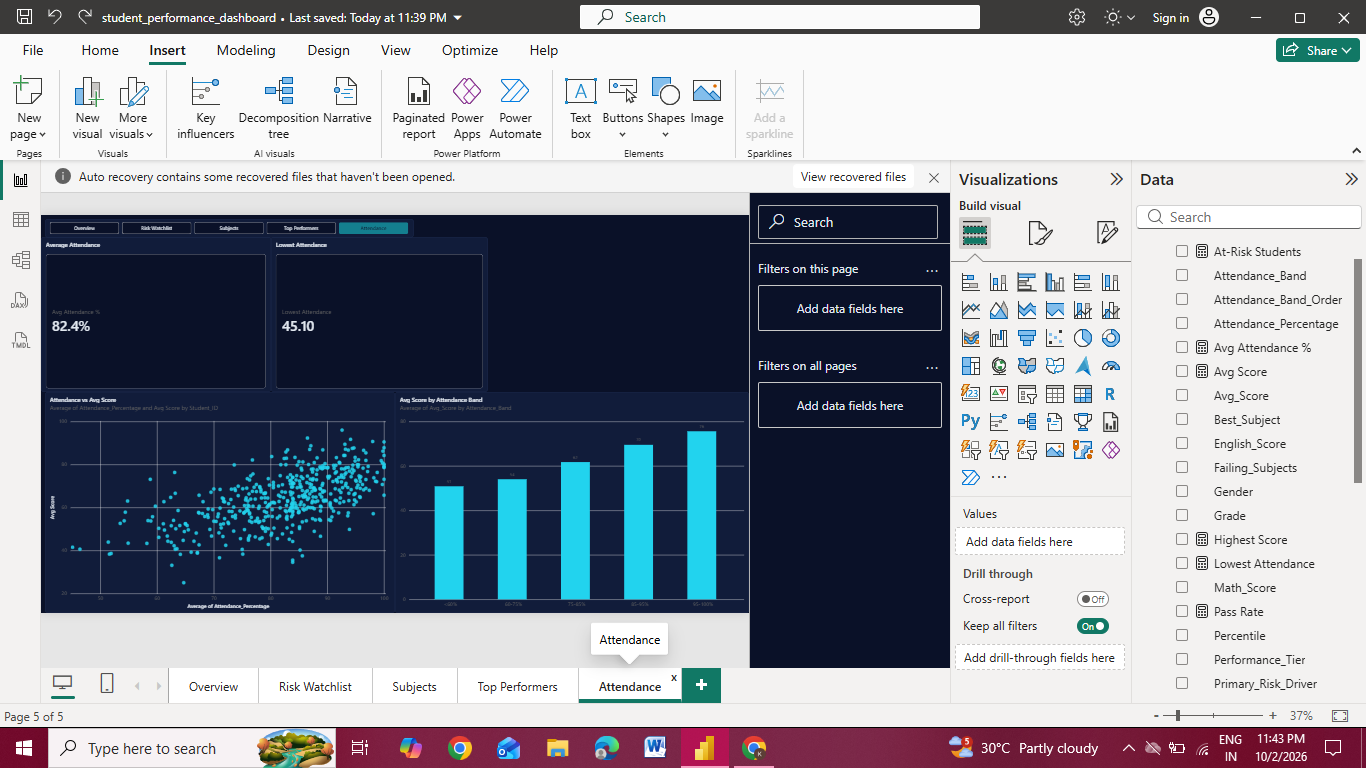

The dashboard page shown, as its layout file describes it:
{"tool":"powerbi","page":{"name":"Attendance","canvas":[1920,1080],"ordinal":4},"visuals":[{"type":"cardVisual","title":"Average Attendance","fields":{"Data":["students.Avg Attendance %"]},"box":[0,59.7,623.7,420.3],"z":0},{"type":"cardVisual","title":"Lowest Attendance","fields":{"Data":["students.Lowest Attendance"]},"box":[623.7,59.7,588.5,420.3],"z":1000},{"type":"scatterChart","title":"Attendance vs Avg Score","fields":{"Category":["students.Student_ID"],"X":["students.Attendance_Percentage"],"Y":["students.Avg Score"]},"box":[10.8,480,949.2,599.3],"z":2000},{"type":"clusteredColumnChart","title":"Avg Score by Attendance Band","fields":{"Category":["students.Attendance_Band"],"Y":["Avg(students.Avg_Score)"]},"box":[960,480,960,599.3],"z":2001},{"type":"pageNavigator","box":[10,10,1000,50],"z":2002}]}

Visuals, with their boxes on the page's 1920x1080 design canvas (x1, y1, x2, y2). These are canvas units, not pixel positions in the 1366x768 screenshot, which may show the page scaled, cropped or inside an application window:
"Average Attendance" cardVisual: 0/60/624/480
"Lowest Attendance" cardVisual: 624/60/1212/480
"Attendance vs Avg Score" scatterChart: 11/480/960/1079
"Avg Score by Attendance Band" clusteredColumnChart: 960/480/1920/1079
pageNavigator: 10/10/1010/60
